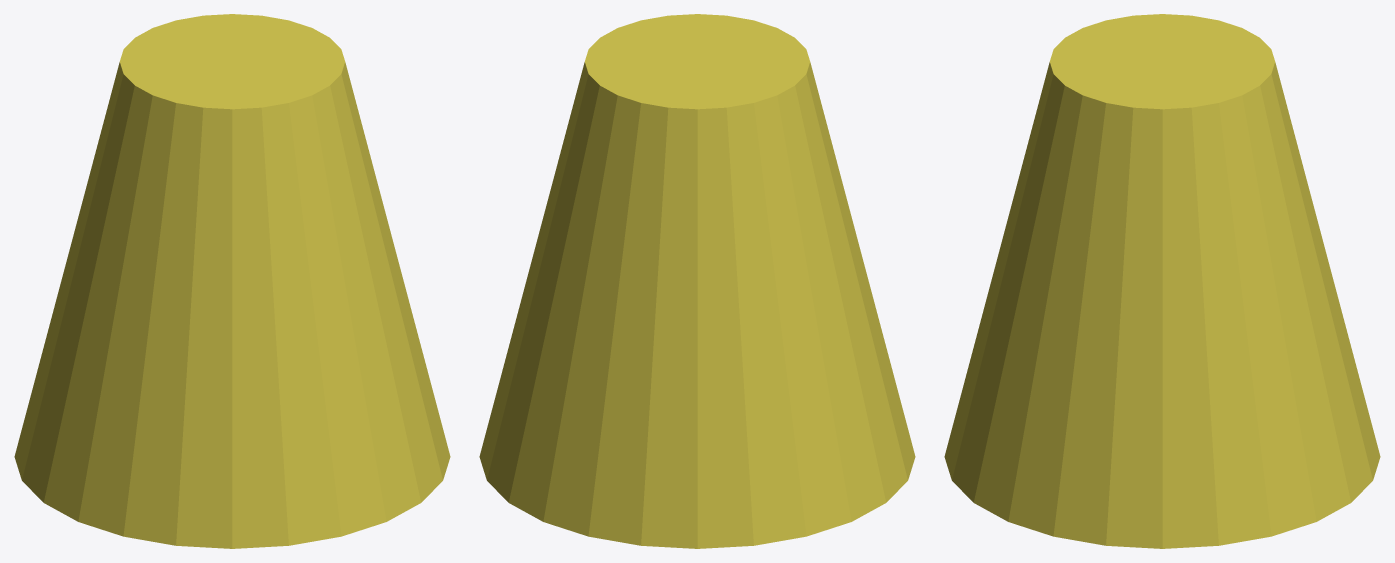
3 renders of one model, left to right at view 1: azimuth 30°, elevation 25°; view 2: azimuth 150°, elevation 25°; view 3: azimuth 270°, elevation 25°, orthographic.
Visible parts, largest first — view 1: Mesh_Mesh_head_geo.001_lambert2SG.001; view 2: Mesh_Mesh_head_geo.001_lambert2SG.001; view 3: Mesh_Mesh_head_geo.001_lambert2SG.001.
Part boxes in pixels (x1=…): Mesh_Mesh_head_geo.001_lambert2SG.001: x1=14, y1=14, x2=450, y2=548; Mesh_Mesh_head_geo.001_lambert2SG.001: x1=479, y1=14, x2=915, y2=548; Mesh_Mesh_head_geo.001_lambert2SG.001: x1=944, y1=14, x2=1380, y2=548.
Bounding box in the file's own units: 20 × 20 × 20.
